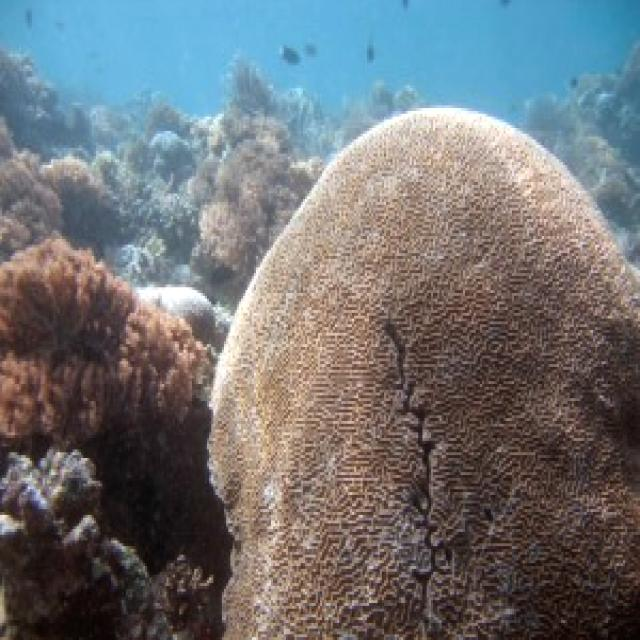Coral: (205, 104, 640, 639), (0, 231, 209, 452)
